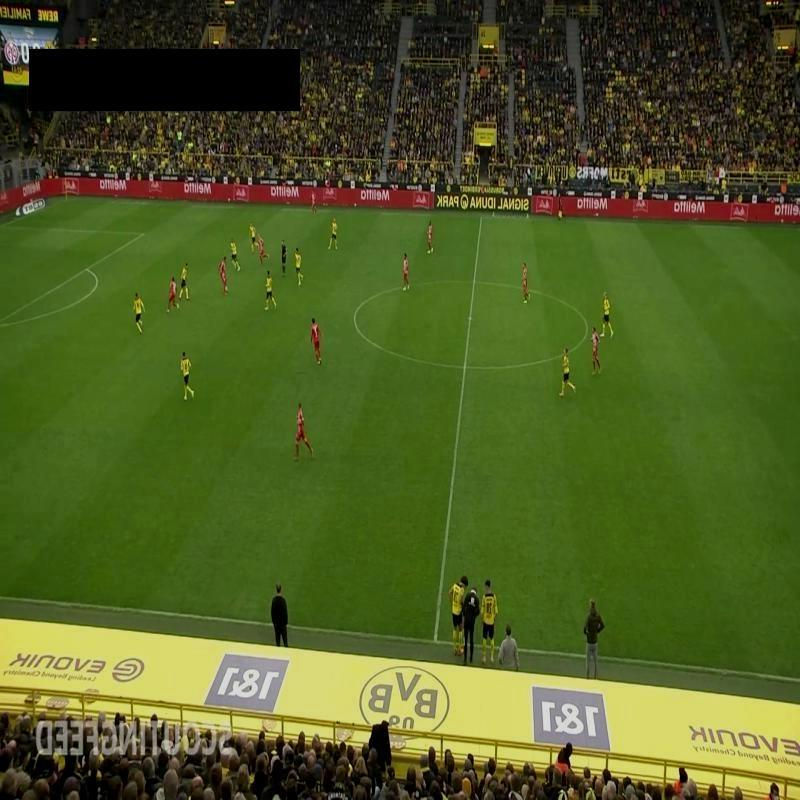1: (60, 193, 74, 207)
10: (80, 262, 94, 276)
13: (474, 210, 489, 224)
14: (467, 276, 481, 290)
15: (459, 360, 473, 374)
16: (428, 631, 444, 651)
2: (0, 222, 5, 231)
9: (136, 226, 150, 240)
c: (347, 305, 362, 323), (581, 323, 594, 337)
